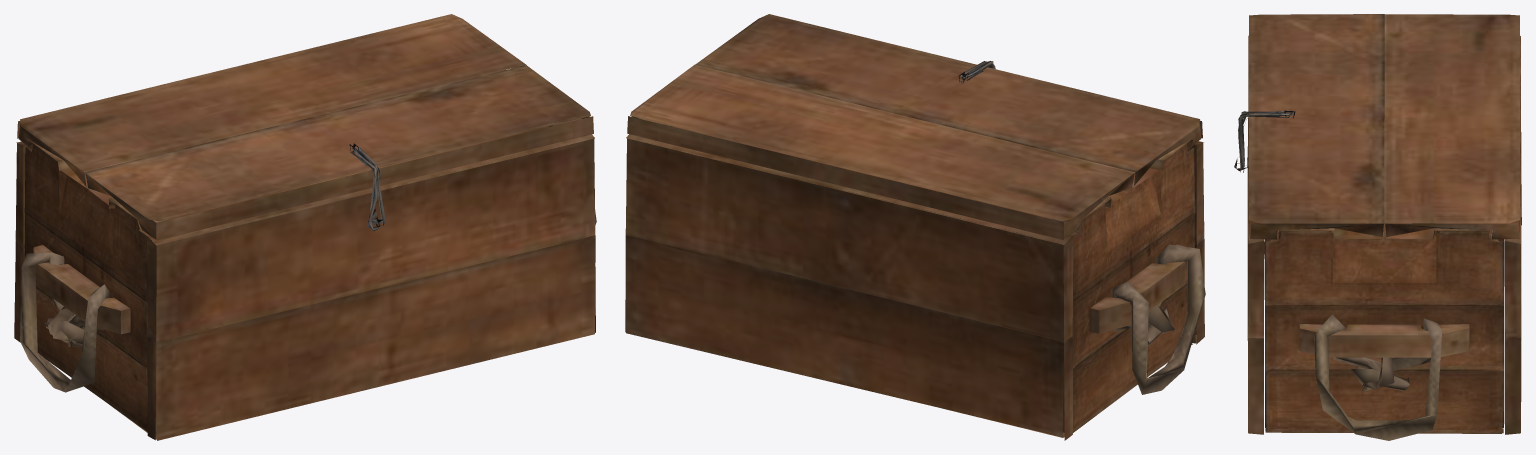
The model's file is crate_wood.glb.
3 views of the same model, side by side, from view 1: azimuth 30°, elevation 25°; view 2: azimuth 150°, elevation 25°; view 3: azimuth 270°, elevation 25° (orthographic). The views are drawn at different scales.
Visible parts, largest first — view 1: crate_wood; view 2: crate_wood; view 3: crate_wood.
Boxes of the visible parts, x1=… form: crate_wood: x1=14, y1=14, x2=596, y2=440; crate_wood: x1=625, y1=14, x2=1205, y2=440; crate_wood: x1=1234, y1=14, x2=1521, y2=440.
Size of the model in its own units: 1.07 by 0.4491 by 0.528.
1 material, 1 textured.
